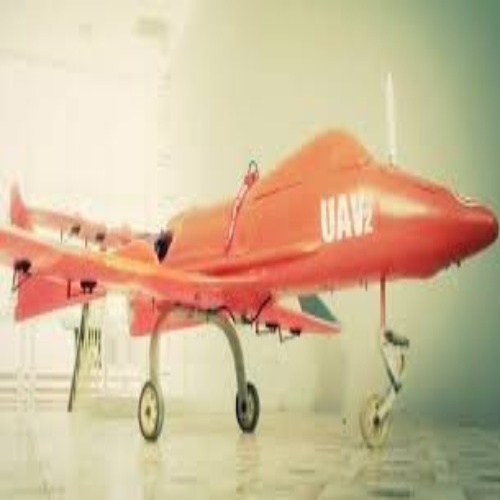uav145: (5, 122, 498, 452)
